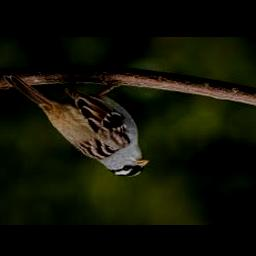Sparrow: (3, 72, 150, 178)
